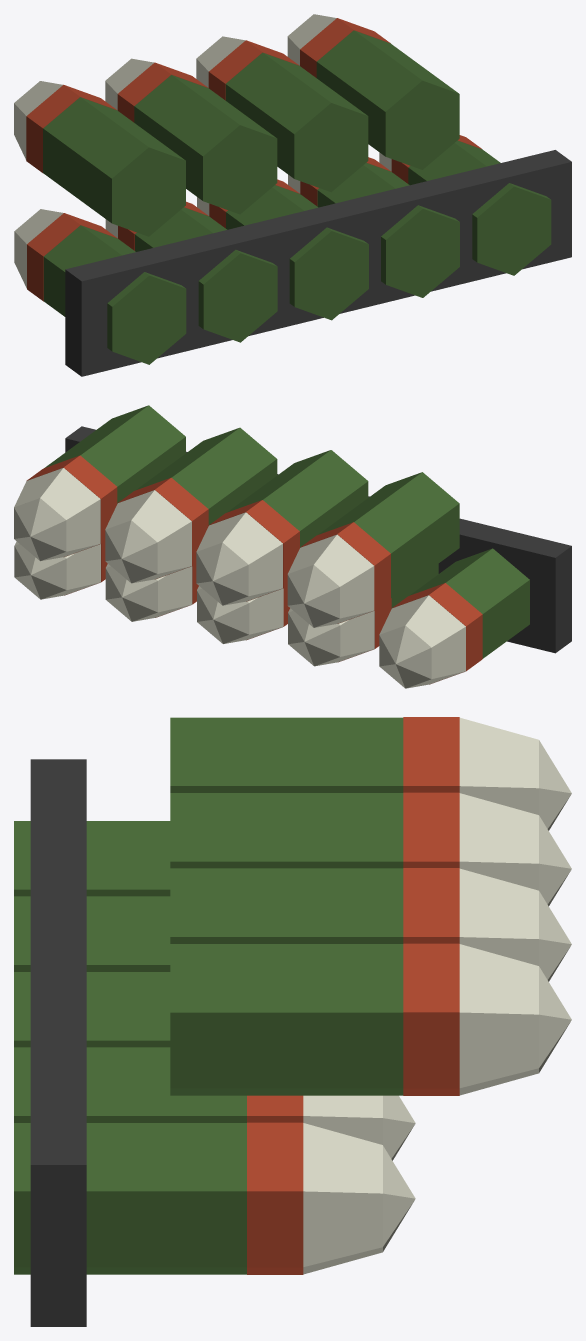
Rendered from ce_ammo_grenade_air_b.obj.
The picture shows the model from 3 angles, top to bottom: view 1: azimuth 30°, elevation 25°; view 2: azimuth 150°, elevation 25°; view 3: azimuth 270°, elevation 25°; orthographic projection. The views are drawn at different scales.
Parts seen in each view (by area): view 1: ce_ammo_grenade_air_b_36, ce_ammo_grenade_air_b_20, ce_ammo_grenade_air_b_28, ce_ammo_grenade_air_b_24, ce_ammo_grenade_air_b_32, ce_ammo_grenade_air_b_0, ce_ammo_grenade_air_b_16, ce_ammo_grenade_air_b_8, ce_ammo_grenade_air_b_4, ce_ammo_grenade_air_b_12, ce_ammo_grenade_air_b_21, ce_ammo_grenade_air_b_1 (+8 smaller); view 2: ce_ammo_grenade_air_b_20, ce_ammo_grenade_air_b_36, ce_ammo_grenade_air_b_28, ce_ammo_grenade_air_b_24, ce_ammo_grenade_air_b_32, ce_ammo_grenade_air_b_0, ce_ammo_grenade_air_b_22, ce_ammo_grenade_air_b_30, ce_ammo_grenade_air_b_34, ce_ammo_grenade_air_b_2, ce_ammo_grenade_air_b_26, ce_ammo_grenade_air_b_3 (+19 smaller); view 3: ce_ammo_grenade_air_b_32, ce_ammo_grenade_air_b_36, ce_ammo_grenade_air_b_16, ce_ammo_grenade_air_b_28, ce_ammo_grenade_air_b_20, ce_ammo_grenade_air_b_24, ce_ammo_grenade_air_b_34, ce_ammo_grenade_air_b_18, ce_ammo_grenade_air_b_12, ce_ammo_grenade_air_b_33, ce_ammo_grenade_air_b_17, ce_ammo_grenade_air_b_4 (+16 smaller).
Part boxes in pixels (left/top/right/bottom): ce_ammo_grenade_air_b_36: left=65, top=150, right=571, bottom=376; ce_ammo_grenade_air_b_20: left=43, top=97, right=185, bottom=236; ce_ammo_grenade_air_b_28: left=225, top=52, right=368, bottom=192; ce_ammo_grenade_air_b_24: left=134, top=75, right=277, bottom=214; ce_ammo_grenade_air_b_32: left=316, top=30, right=459, bottom=169; ce_ammo_grenade_air_b_0: left=43, top=225, right=186, bottom=364; ce_ammo_grenade_air_b_16: left=408, top=140, right=551, bottom=275; ce_ammo_grenade_air_b_8: left=226, top=185, right=368, bottom=320; ce_ammo_grenade_air_b_4: left=135, top=207, right=277, bottom=342; ce_ammo_grenade_air_b_12: left=317, top=162, right=459, bottom=297; ce_ammo_grenade_air_b_21: left=26, top=84, right=116, bottom=172; ce_ammo_grenade_air_b_1: left=27, top=213, right=117, bottom=301; ce_ammo_grenade_air_b_20: left=318, top=472, right=459, bottom=597; ce_ammo_grenade_air_b_36: left=65, top=426, right=571, bottom=653; ce_ammo_grenade_air_b_28: left=135, top=427, right=277, bottom=524; ce_ammo_grenade_air_b_24: left=226, top=450, right=368, bottom=547; ce_ammo_grenade_air_b_32: left=44, top=405, right=185, bottom=503; ce_ammo_grenade_air_b_0: left=409, top=548, right=529, bottom=658; ce_ammo_grenade_air_b_22: left=288, top=534, right=374, bottom=627; ce_ammo_grenade_air_b_30: left=105, top=490, right=191, bottom=583; ce_ammo_grenade_air_b_34: left=14, top=468, right=100, bottom=560; ce_ammo_grenade_air_b_2: left=379, top=595, right=465, bottom=688; ce_ammo_grenade_air_b_26: left=196, top=512, right=282, bottom=605; ce_ammo_grenade_air_b_3: left=379, top=625, right=431, bottom=688; ce_ammo_grenade_air_b_32: left=170, top=944, right=403, bottom=1095; ce_ammo_grenade_air_b_36: left=30, top=759, right=86, bottom=1326; ce_ammo_grenade_air_b_16: left=14, top=1123, right=246, bottom=1274; ce_ammo_grenade_air_b_28: left=170, top=868, right=403, bottom=943; ce_ammo_grenade_air_b_20: left=170, top=717, right=403, bottom=792; ce_ammo_grenade_air_b_24: left=170, top=793, right=403, bottom=868; ce_ammo_grenade_air_b_34: left=459, top=944, right=538, bottom=1095; ce_ammo_grenade_air_b_18: left=303, top=1123, right=382, bottom=1274; ce_ammo_grenade_air_b_12: left=14, top=1047, right=246, bottom=1122; ce_ammo_grenade_air_b_33: left=403, top=943, right=459, bottom=1095; ce_ammo_grenade_air_b_17: left=247, top=1122, right=303, bottom=1274; ce_ammo_grenade_air_b_4: left=14, top=896, right=170, bottom=971.
Size of the model in its own units: 0.86 by 0.2904 by 0.5.
